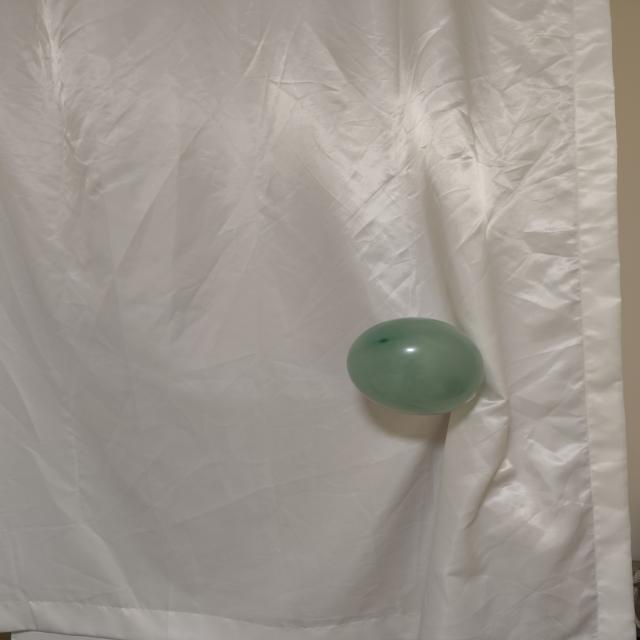balloon: (347, 318, 484, 415)
